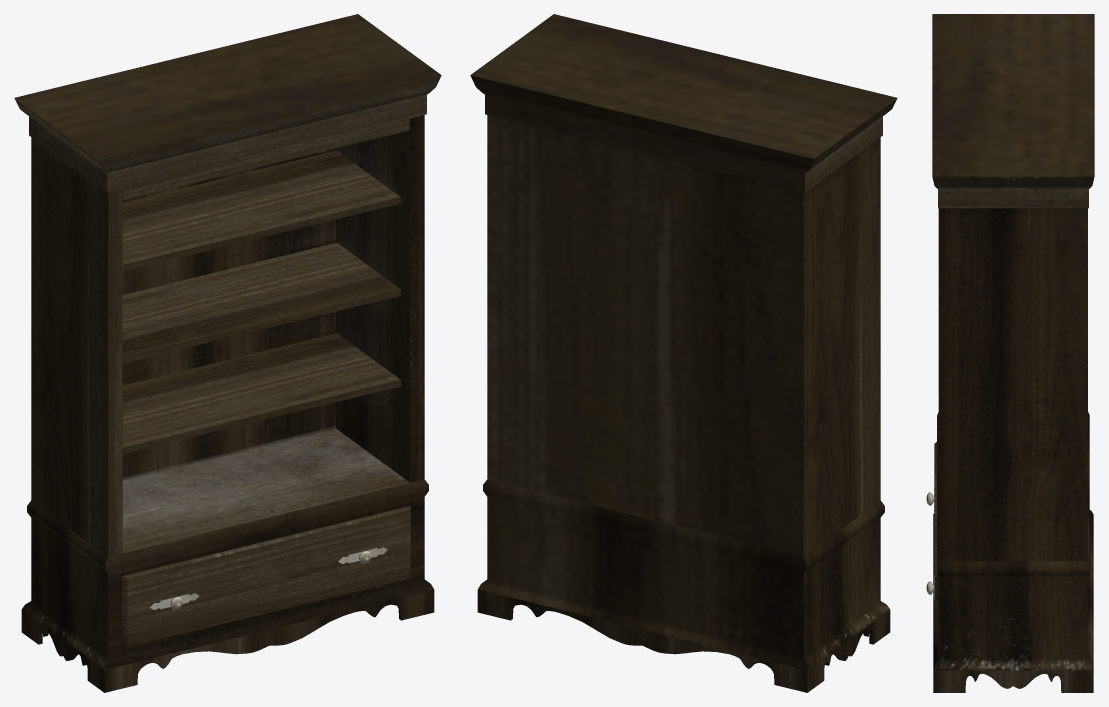
File: 144_Closet.fbx
3 views of the same model, side by side, from view 1: azimuth 30°, elevation 25°; view 2: azimuth 150°, elevation 25°; view 3: azimuth 270°, elevation 25° (orthographic). The views are drawn at different scales.
Visible parts, largest first — view 1: LOD_1_Group_0_Sub_1__sm30_144_Closet01C_A_Mat; view 2: LOD_1_Group_0_Sub_1__sm30_144_Closet01C_A_Mat; view 3: LOD_1_Group_0_Sub_1__sm30_144_Closet01C_A_Mat.
Boxes of the visible parts, x1,y1,x2,y2 form: LOD_1_Group_0_Sub_1__sm30_144_Closet01C_A_Mat: [14, 14, 441, 692]; LOD_1_Group_0_Sub_1__sm30_144_Closet01C_A_Mat: [470, 14, 897, 692]; LOD_1_Group_0_Sub_1__sm30_144_Closet01C_A_Mat: [926, 14, 1094, 692].
Bounding box in the file's own units: 1.61 × 2.4 × 0.7048.
